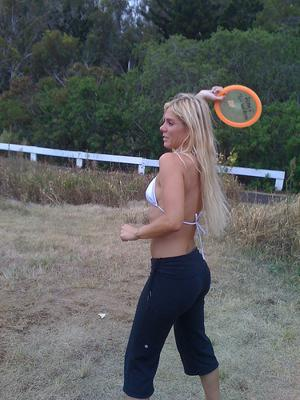person: (120, 83, 230, 400)
